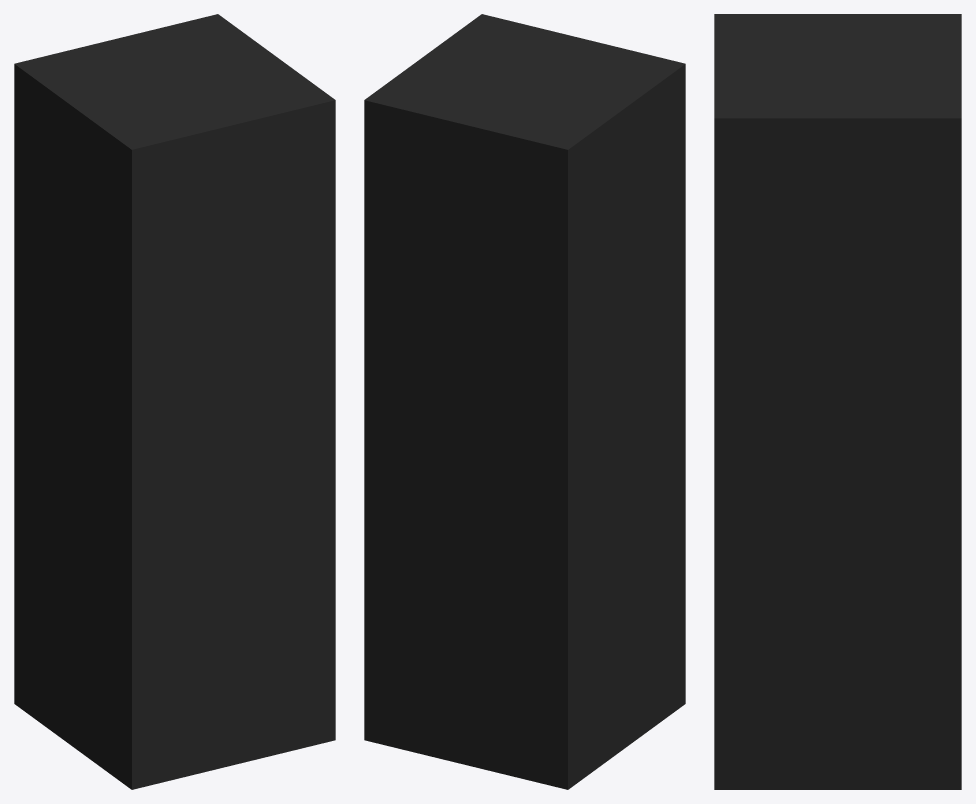
3 views of the same model, side by side, from view 1: azimuth 30°, elevation 25°; view 2: azimuth 150°, elevation 25°; view 3: azimuth 270°, elevation 25° (orthographic). The views are drawn at different scales.
Parts seen in each view (by area): view 1: pCube1; view 2: pCube1; view 3: pCube1.
Boxes of the visible parts, x1,y1,x2,y2 form: pCube1: [14, 14, 335, 789]; pCube1: [364, 14, 685, 789]; pCube1: [714, 14, 961, 789].
Bounding box in the file's own units: 1 × 3 × 1.
Materials: 1 (1 with a texture image).
